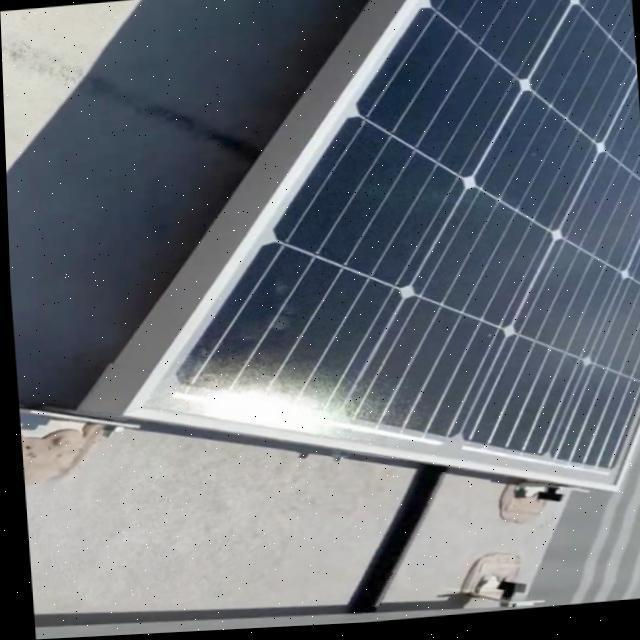Normal Solar Panel: (86, 0, 640, 535)
